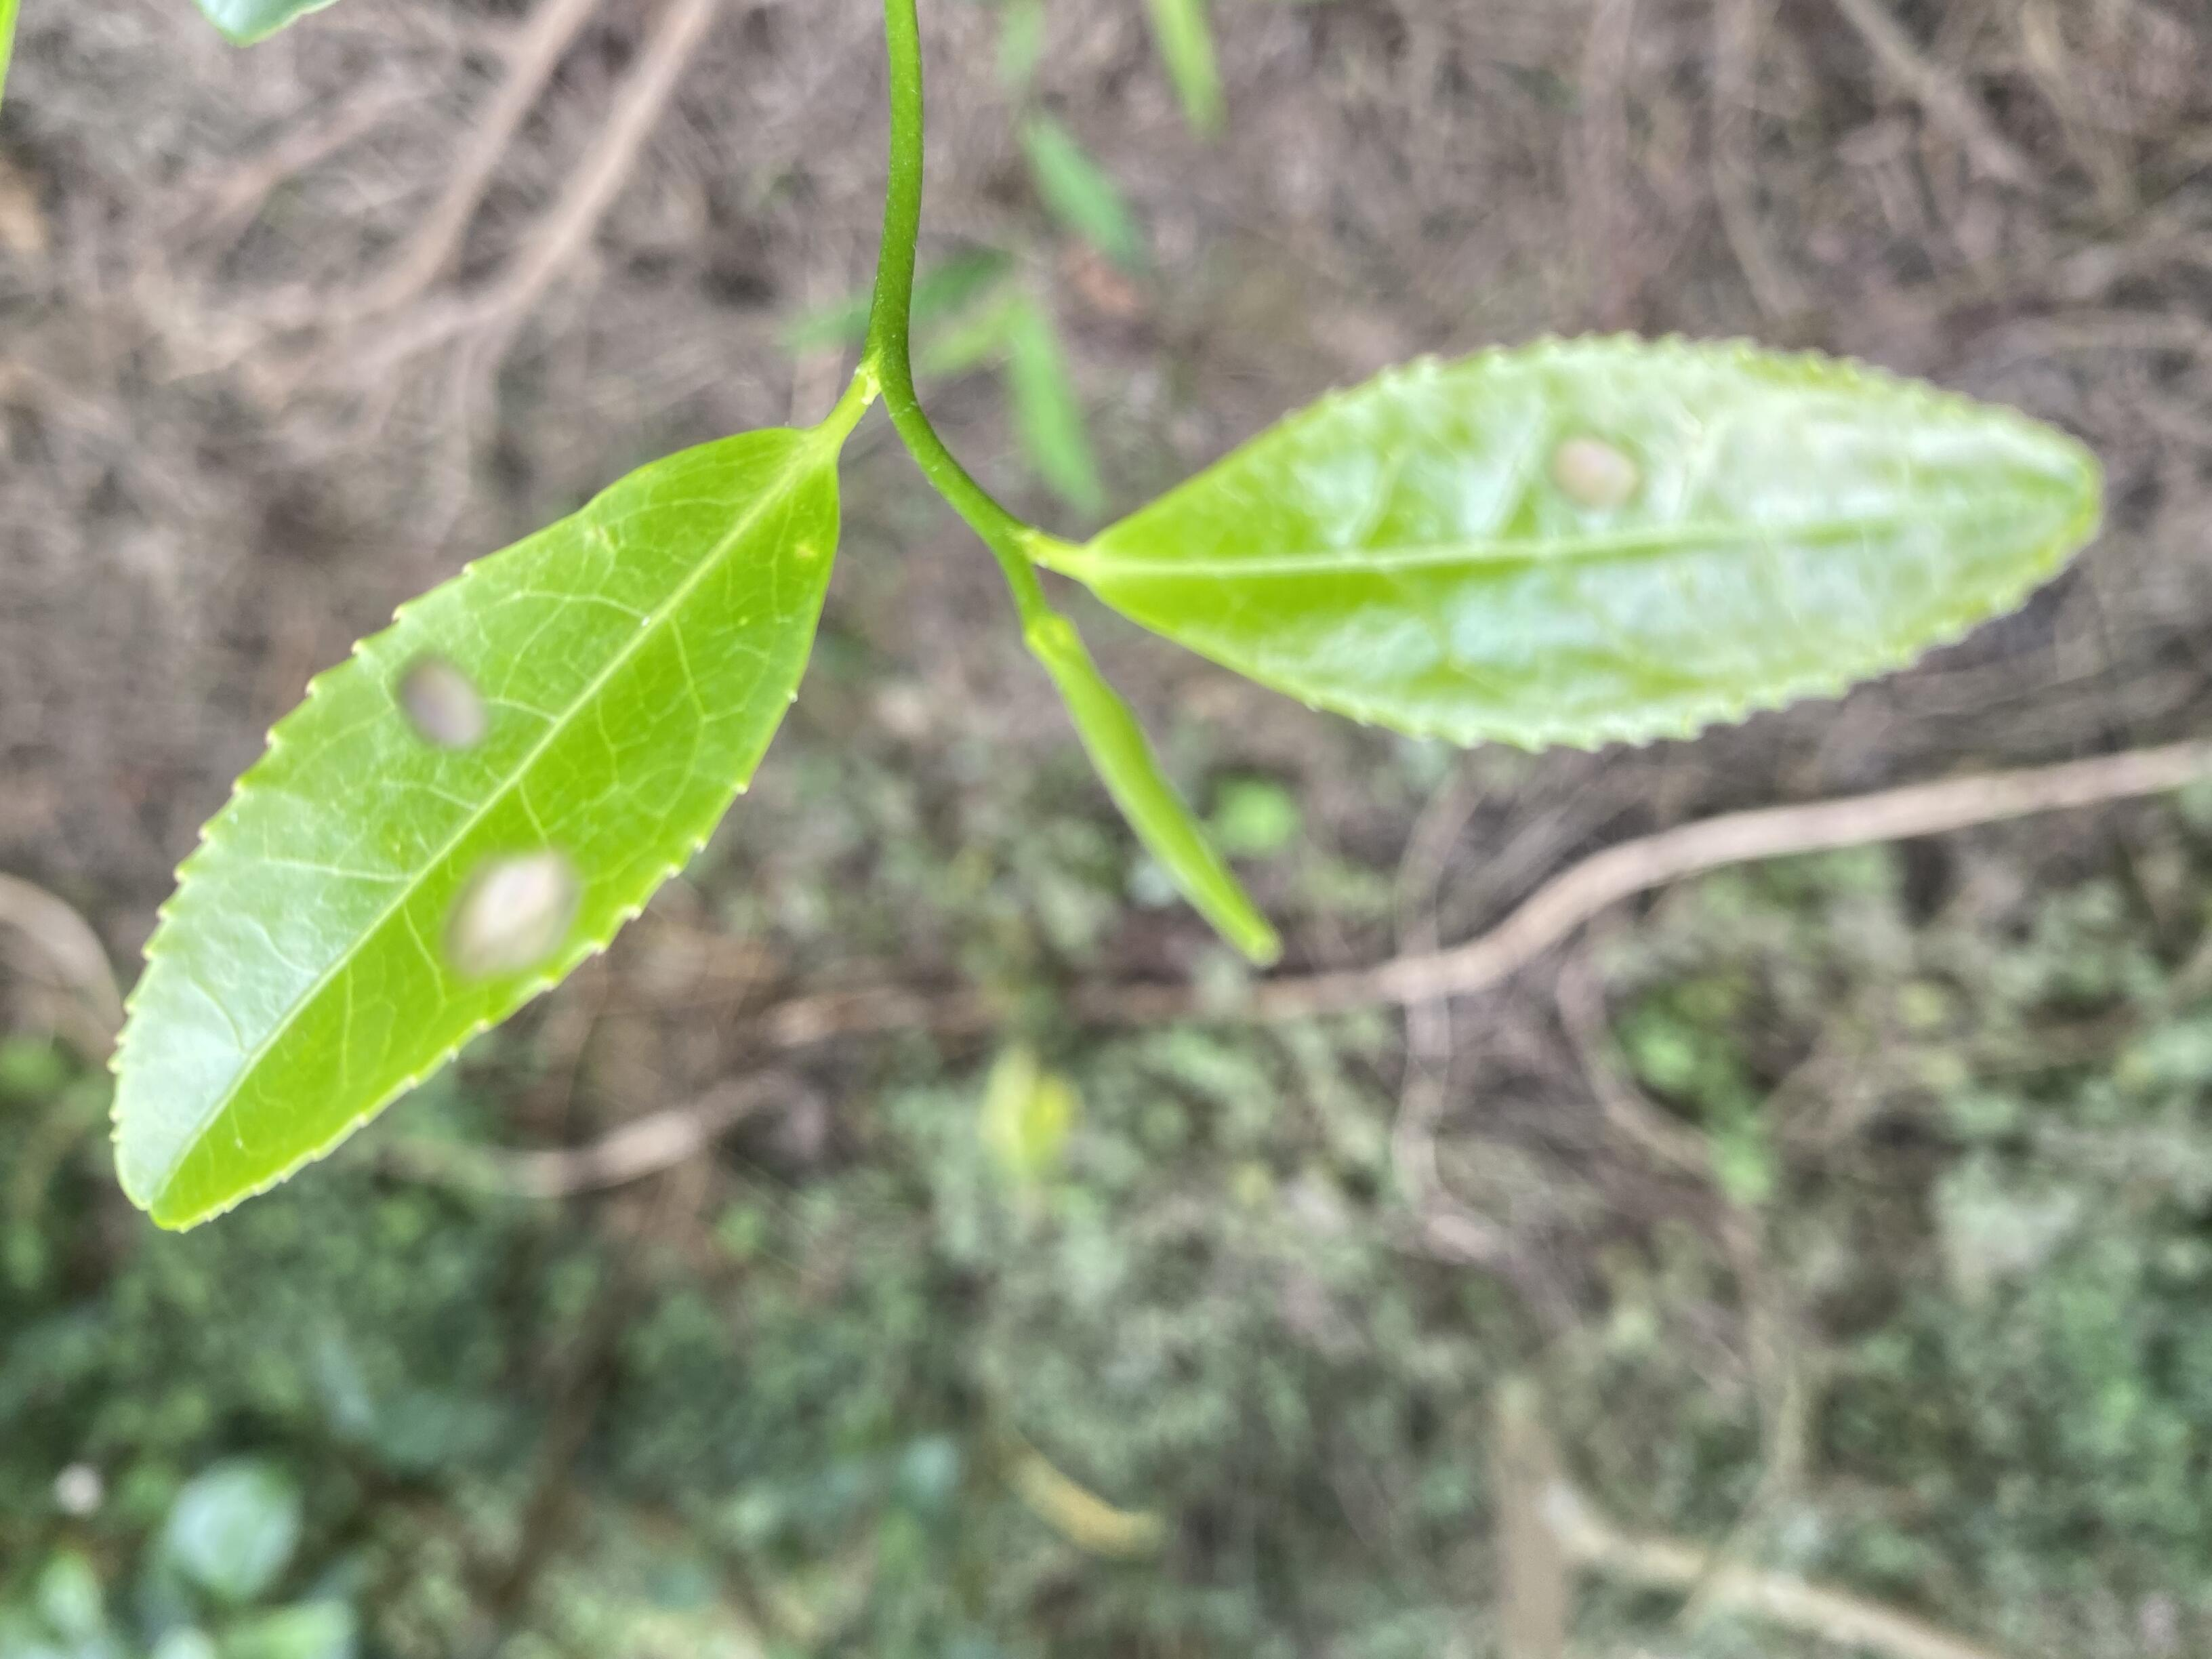chabing_high: (106, 427, 848, 1236)
chabing_low: (1083, 333, 2102, 748)
